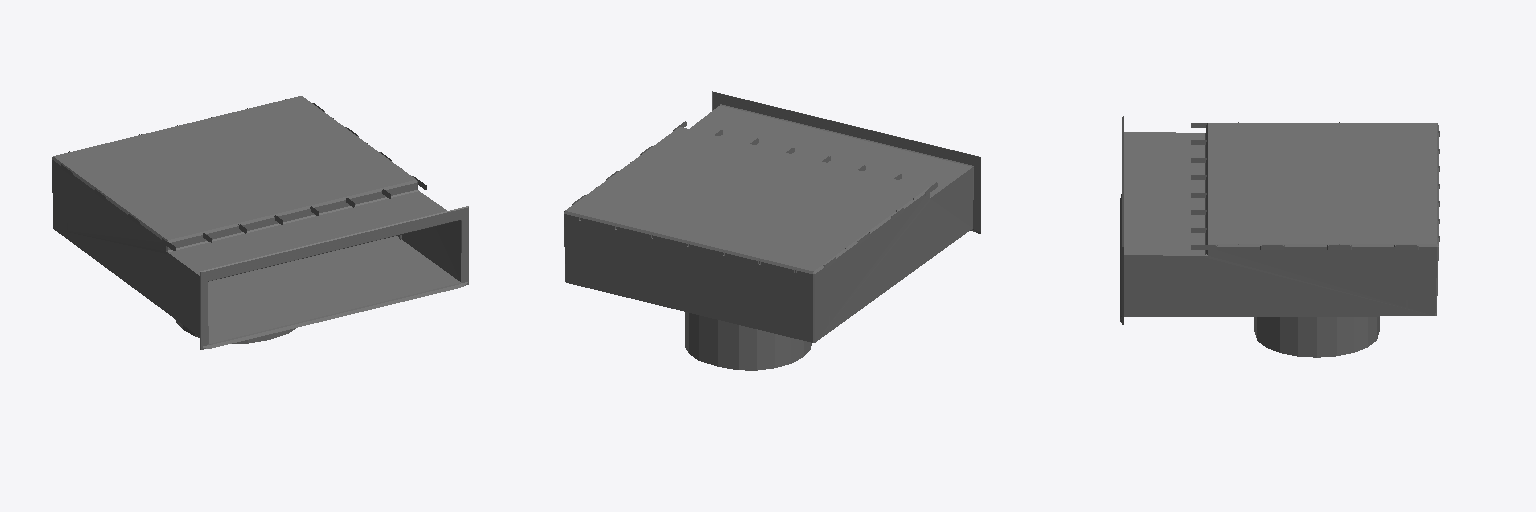
Rendered from Garage_Final.obj.
The picture shows the model from 3 angles: view 1: azimuth 30°, elevation 25°; view 2: azimuth 150°, elevation 25°; view 3: azimuth 270°, elevation 25°; orthographic projection.
Visible parts, largest first — view 1: Garage; view 2: Garage; view 3: Garage.
Boxes of the visible parts, x1,y1,x2,y2 form: Garage: [52, 96, 468, 349]; Garage: [564, 91, 980, 370]; Garage: [1120, 116, 1439, 357].
Bounding box in the file's own units: 271 × 144 × 279.